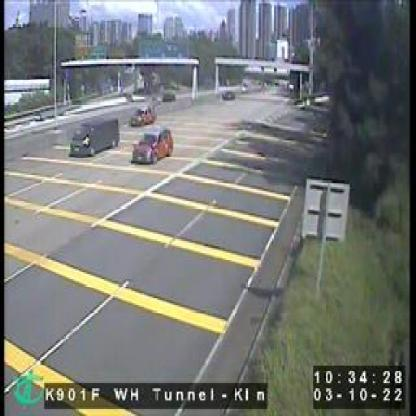Car: (69, 116, 118, 151), (131, 128, 172, 163), (129, 104, 153, 125)
